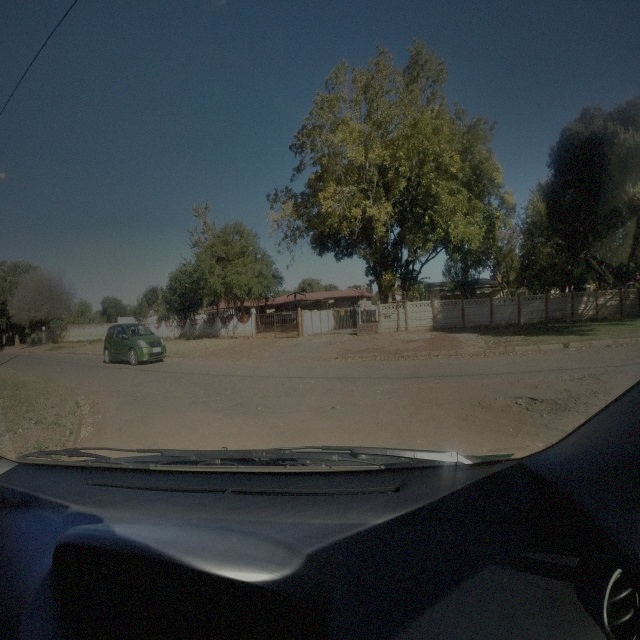pothole: (512, 393, 544, 408)
